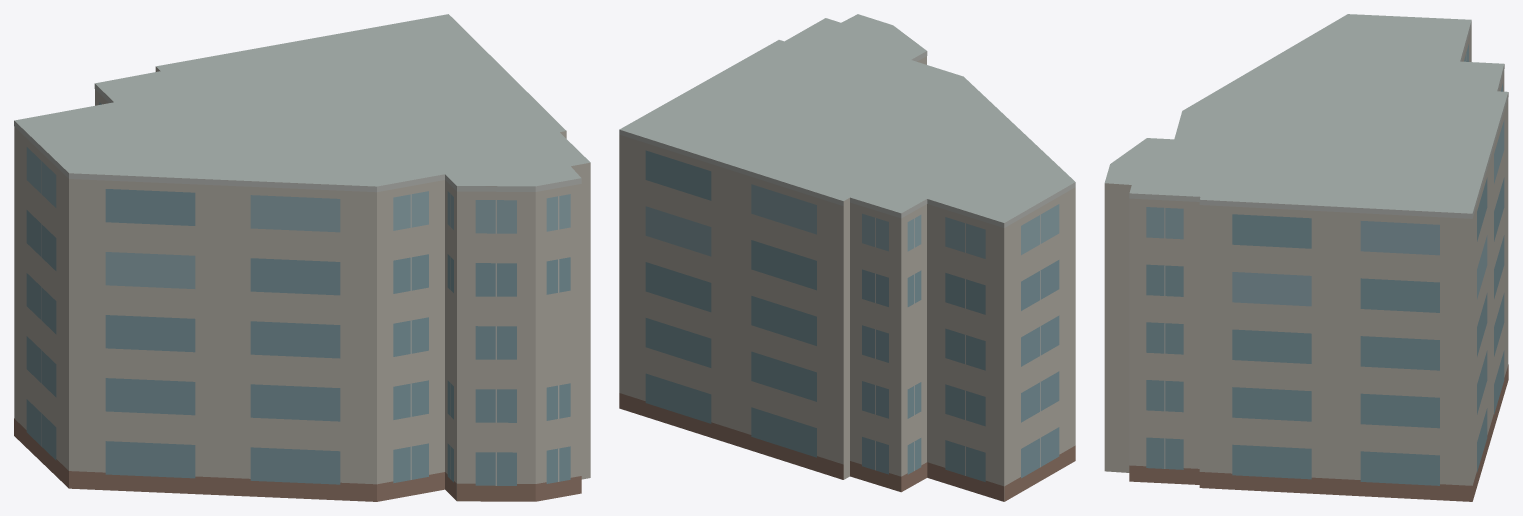
Rendered from survey-upis-32653813.glb.
3 renders of one model, left to right at view 1: azimuth 30°, elevation 25°; view 2: azimuth 150°, elevation 25°; view 3: azimuth 270°, elevation 25°, orthographic. The views are drawn at different scales.
Visible parts, largest first — view 1: survey-upis-32653813.tmp; view 2: survey-upis-32653813.tmp; view 3: survey-upis-32653813.tmp.
Part boxes in pixels (x1=…): survey-upis-32653813.tmp: x1=14, y1=14, x2=590, y2=501; survey-upis-32653813.tmp: x1=619, y1=14, x2=1075, y2=501; survey-upis-32653813.tmp: x1=1104, y1=14, x2=1508, y2=501.
Size of the model in its own units: 20.07 by 13.5 by 17.16.
